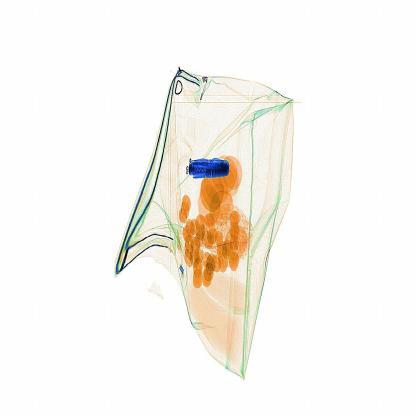scissors: (179, 150, 244, 190)
